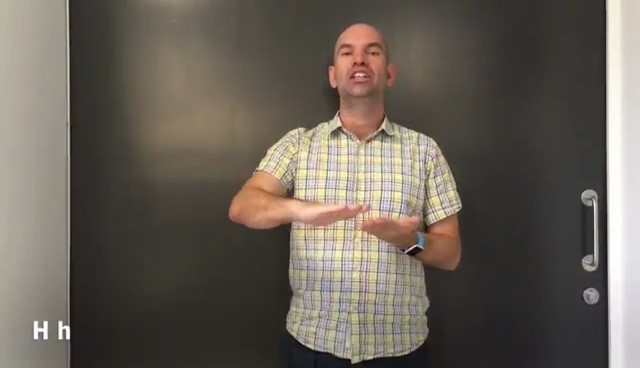H: (302, 179, 443, 257)
